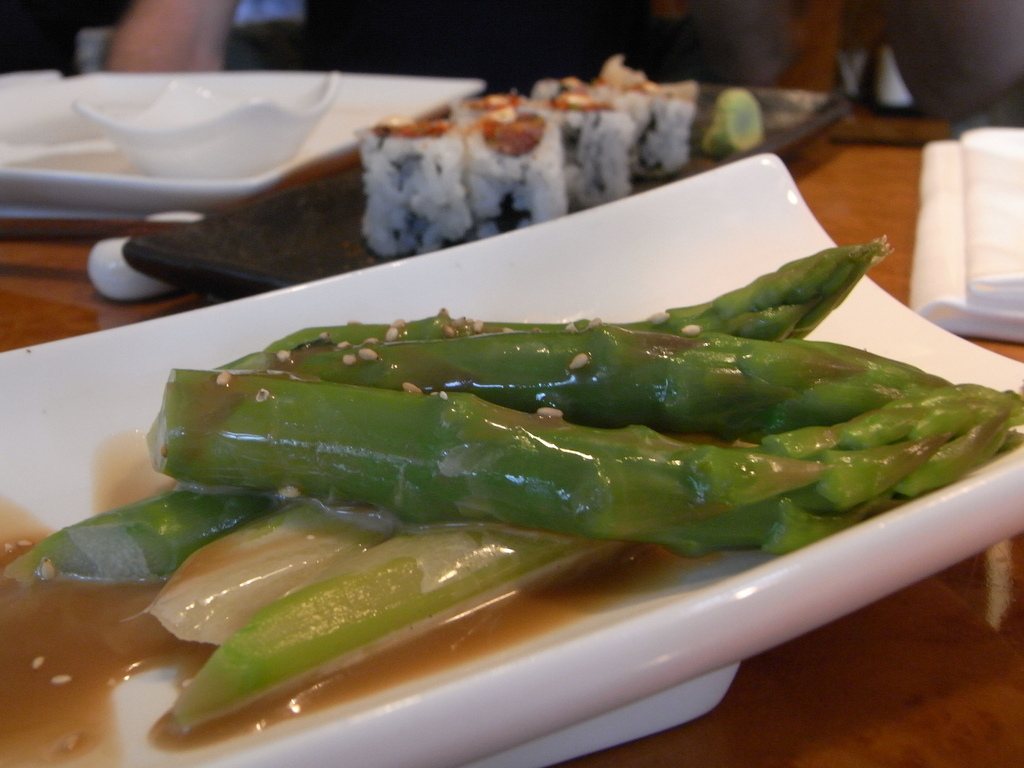sushi: (356, 52, 696, 256), (356, 124, 473, 253)
